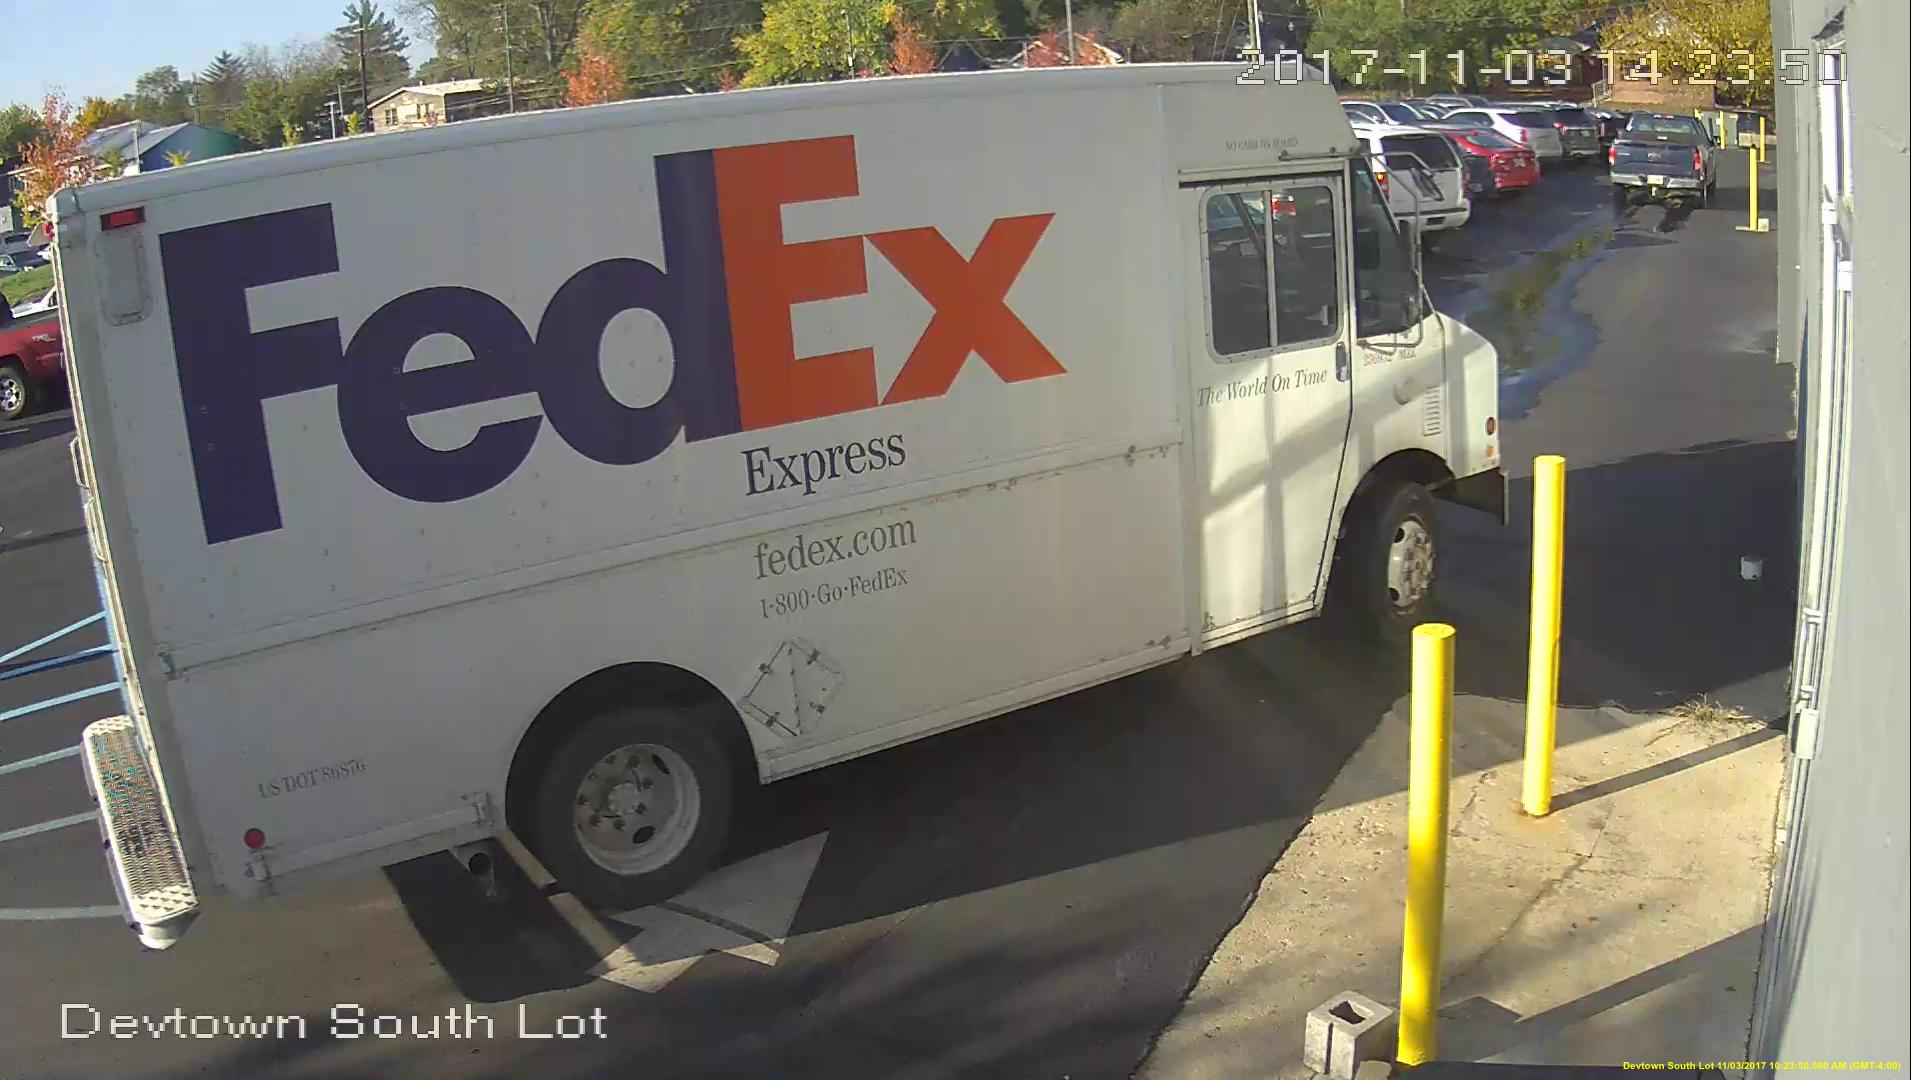fedex_truck: (45, 51, 1513, 953)
